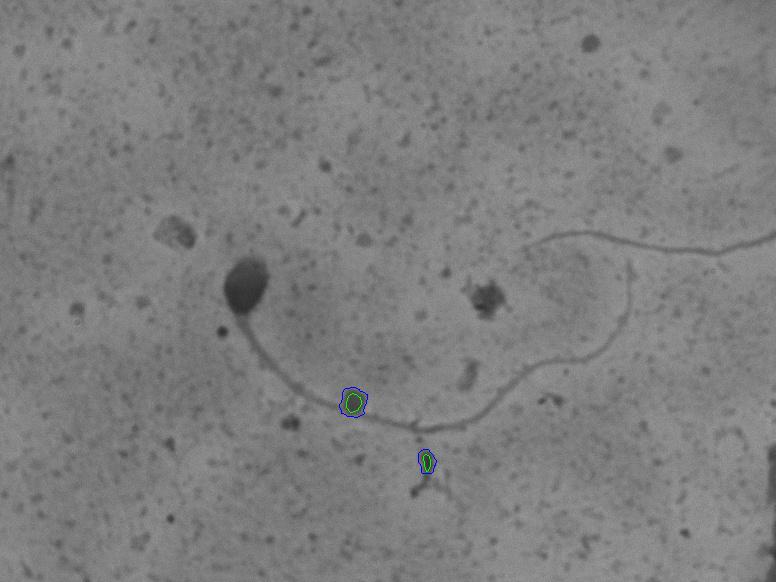Abnormal: (212, 192, 670, 443)
